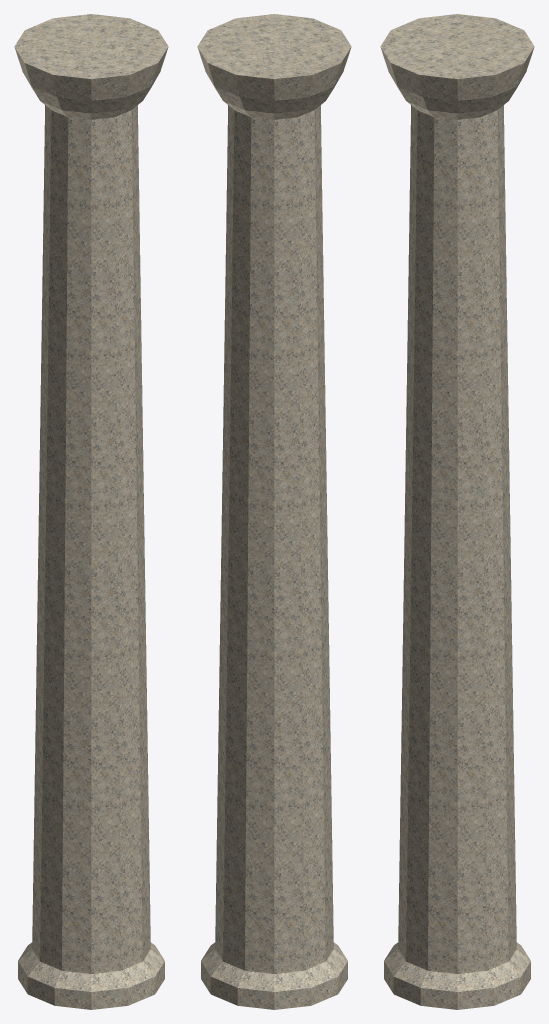
Rendered from doric-column-three-level-v1.gltf.
3 views of the same model, side by side, from view 1: azimuth 30°, elevation 25°; view 2: azimuth 150°, elevation 25°; view 3: azimuth 270°, elevation 25° (orthographic).
Parts seen in each view (by area): view 1: columns-L0-granite; view 2: columns-L0-granite; view 3: columns-L0-granite.
Boxes of the visible parts, x1,y1,x2,y2 form: columns-L0-granite: (14,14,168,1009); columns-L0-granite: (197,14,351,1009); columns-L0-granite: (380,14,534,1009).
Size of the model in its own units: 0.936 by 6.24 by 0.936.
Materials: 1 (1 with a texture image).
